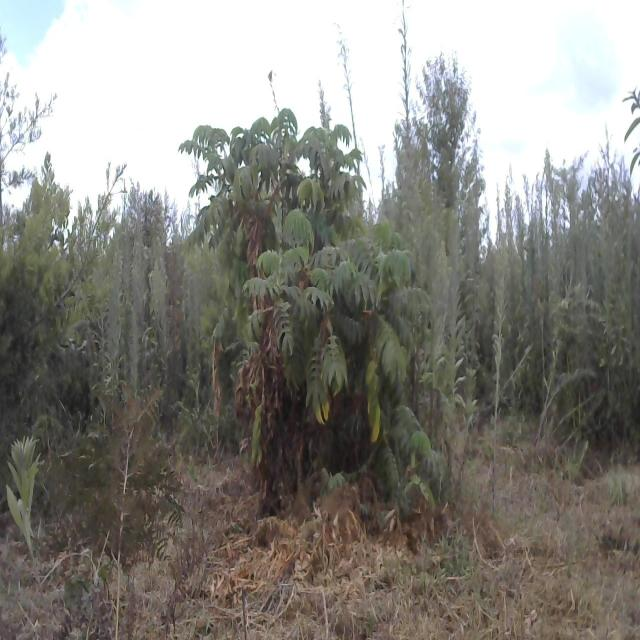Polyscias fulva: (168, 70, 462, 596)
